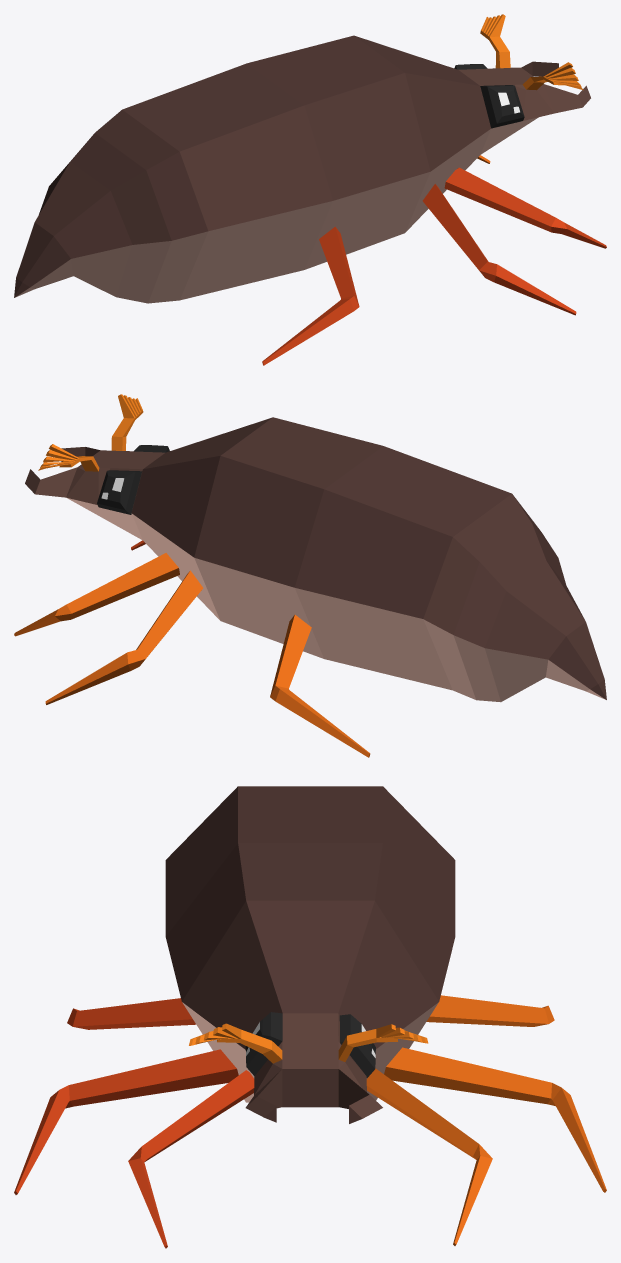
The model's file is mayski.fbx.
3 renders of one model, top to bottom at view 1: azimuth 30°, elevation 25°; view 2: azimuth 150°, elevation 25°; view 3: azimuth 270°, elevation 25°, orthographic. The views are drawn at different scales.
Parts seen in each view (by area): view 1: Cylinder, Cylinder.001, Cube.002, Cube.001, Cube.005, Cylinder.003; view 2: Cylinder, Cylinder.001, Cube.006, Cube.004, Cube.003, Cylinder.004; view 3: Cylinder, Cylinder.001, Cube.001, Cube.004, Cube.002, Cube.006, Cube.005, Cube.003, Cylinder.003, Cylinder.004.
Part boxes in pixels (bbox=[...]): Cylinder: bbox=[14, 35, 491, 303]; Cylinder.001: bbox=[458, 14, 590, 154]; Cube.002: bbox=[444, 167, 606, 248]; Cube.001: bbox=[422, 184, 576, 315]; Cube.005: bbox=[262, 226, 359, 365]; Cylinder.003: bbox=[480, 85, 524, 128]; Cylinder: bbox=[131, 417, 606, 702]; Cylinder.001: bbox=[25, 394, 164, 539]; Cube.006: bbox=[14, 553, 179, 636]; Cube.004: bbox=[45, 570, 203, 704]; Cube.003: bbox=[270, 614, 370, 757]; Cylinder.004: bbox=[97, 470, 142, 514]; Cylinder: bbox=[165, 786, 455, 1102]; Cylinder.001: bbox=[189, 1013, 428, 1123]; Cube.001: bbox=[14, 1049, 238, 1194]; Cube.004: bbox=[384, 1047, 606, 1192]; Cube.002: bbox=[128, 1070, 254, 1248]; Cube.006: bbox=[366, 1068, 492, 1245]; Cube.005: bbox=[67, 998, 195, 1029]; Cube.003: bbox=[426, 995, 554, 1026]; Cylinder.003: bbox=[245, 1012, 282, 1075]; Cylinder.004: bbox=[339, 1014, 375, 1077].
Size of the model in its own units: 624 by 211 by 461.
